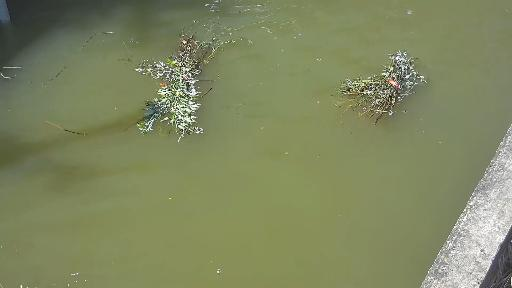twig: (130, 28, 222, 144), (333, 45, 427, 136)
